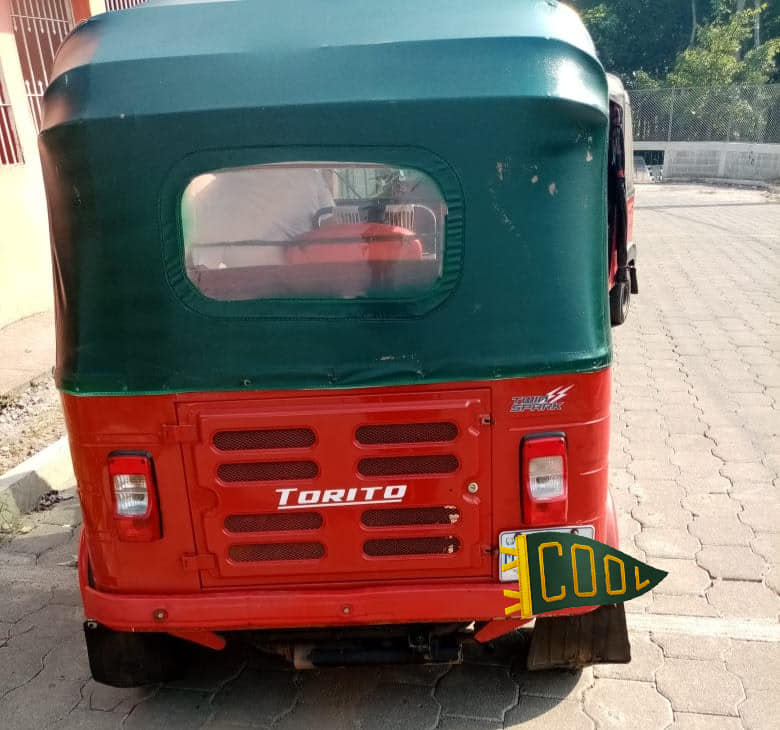mototaxi: (31, 1, 631, 680)
